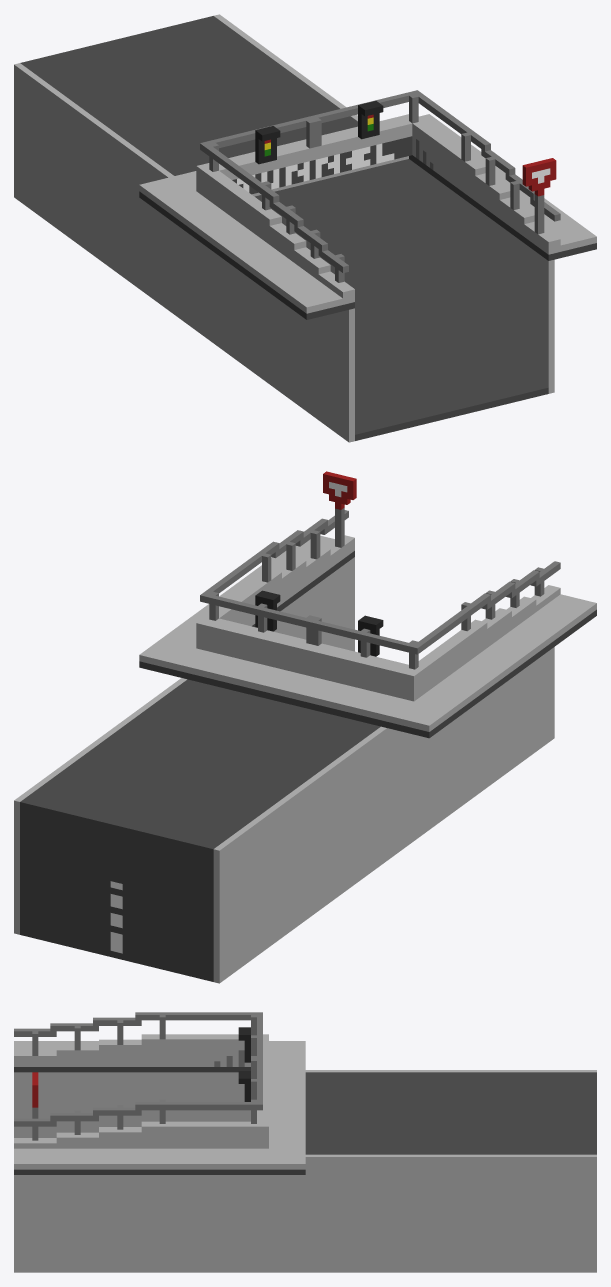
The model's file is Tunnel.obj.
The picture shows the model from 3 angles, top to bottom: view 1: azimuth 30°, elevation 25°; view 2: azimuth 150°, elevation 25°; view 3: azimuth 270°, elevation 25°; orthographic projection. The views are drawn at different scales.
Bounding box in the file's own units: 4.8 × 3.5 × 9.6.
Materials: 1 (1 with a texture image).
